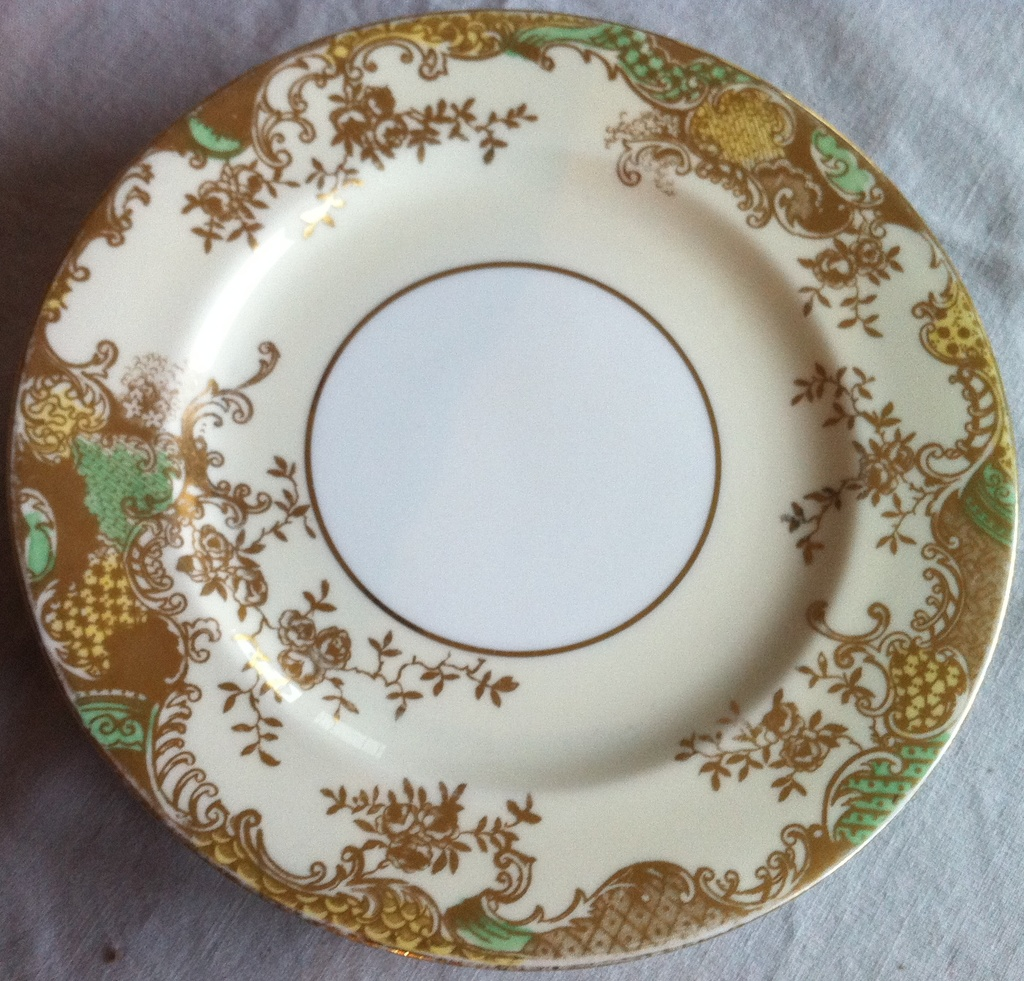plate: (1, 7, 1019, 970)
